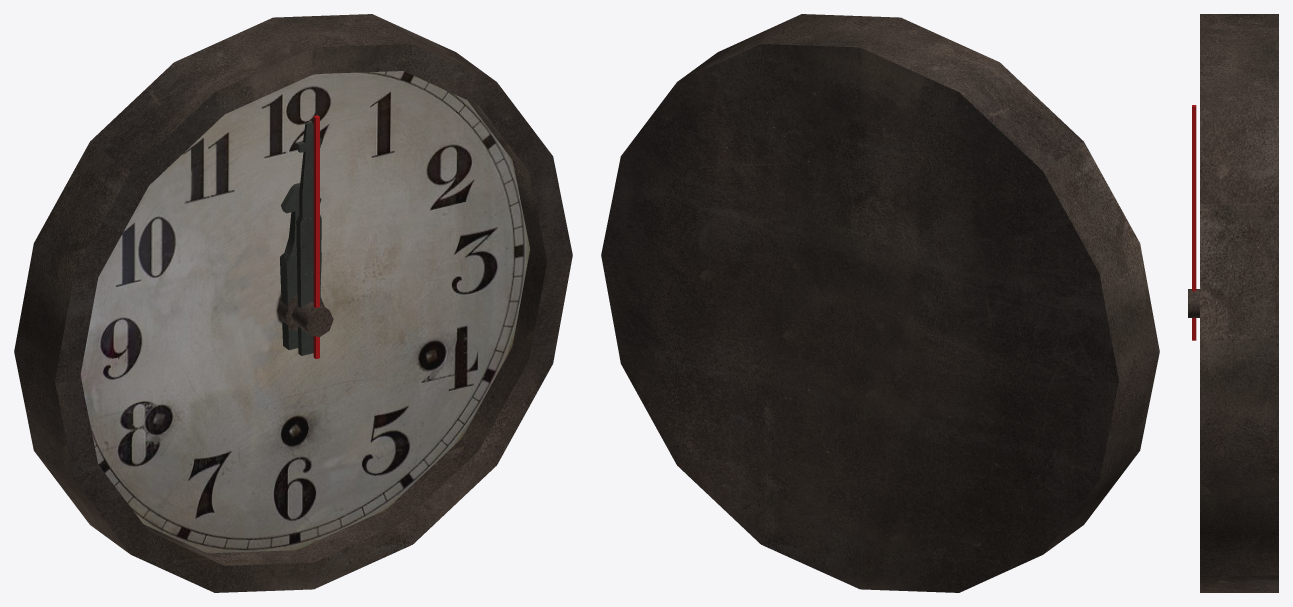
Rendered from clock.fbx.
The picture shows the model from 3 angles, left to right: view 1: azimuth 30°, elevation 25°; view 2: azimuth 150°, elevation 25°; view 3: azimuth 270°, elevation 25°; orthographic projection. The views are drawn at different scales.
Visible parts, largest first — view 1: Clock; view 2: Clock; view 3: Clock.
Part boxes in pixels (box(x1,y1,x2,y2)): Clock: box(14, 14, 572, 592); Clock: box(601, 14, 1159, 592); Clock: box(1188, 14, 1278, 592).
Size of the model in its own units: 80 by 80 by 12.53.
